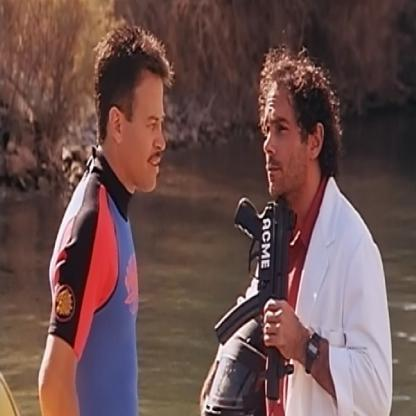Gun: (209, 180, 296, 414)
